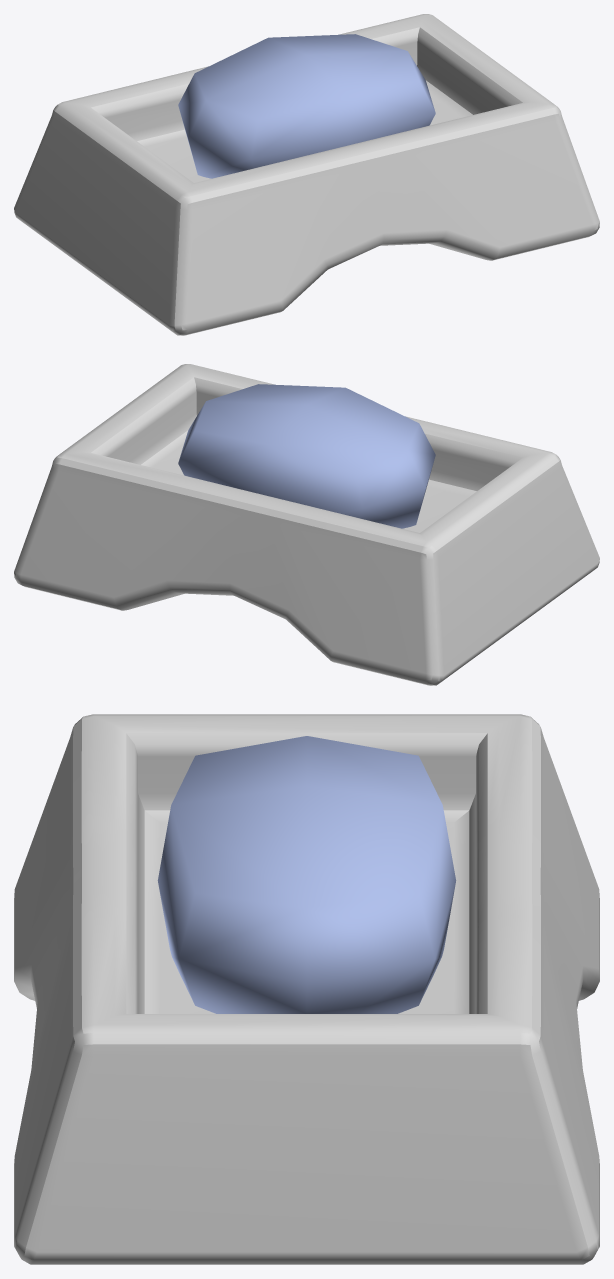
Rendered from Eden_soap.fbx.
3 renders of one model, top to bottom at view 1: azimuth 30°, elevation 25°; view 2: azimuth 150°, elevation 25°; view 3: azimuth 270°, elevation 25°, orthographic. The views are drawn at different scales.
Visible parts, largest first — view 1: soap; view 2: soap; view 3: soap.
Part boxes in pixels (x1=…): soap: x1=14, y1=14, x2=599, y2=335; soap: x1=14, y1=364, x2=599, y2=685; soap: x1=14, y1=714, x2=599, y2=1264.
Bounding box in the file's own units: 0.00254 × 0.001 × 0.00172.
